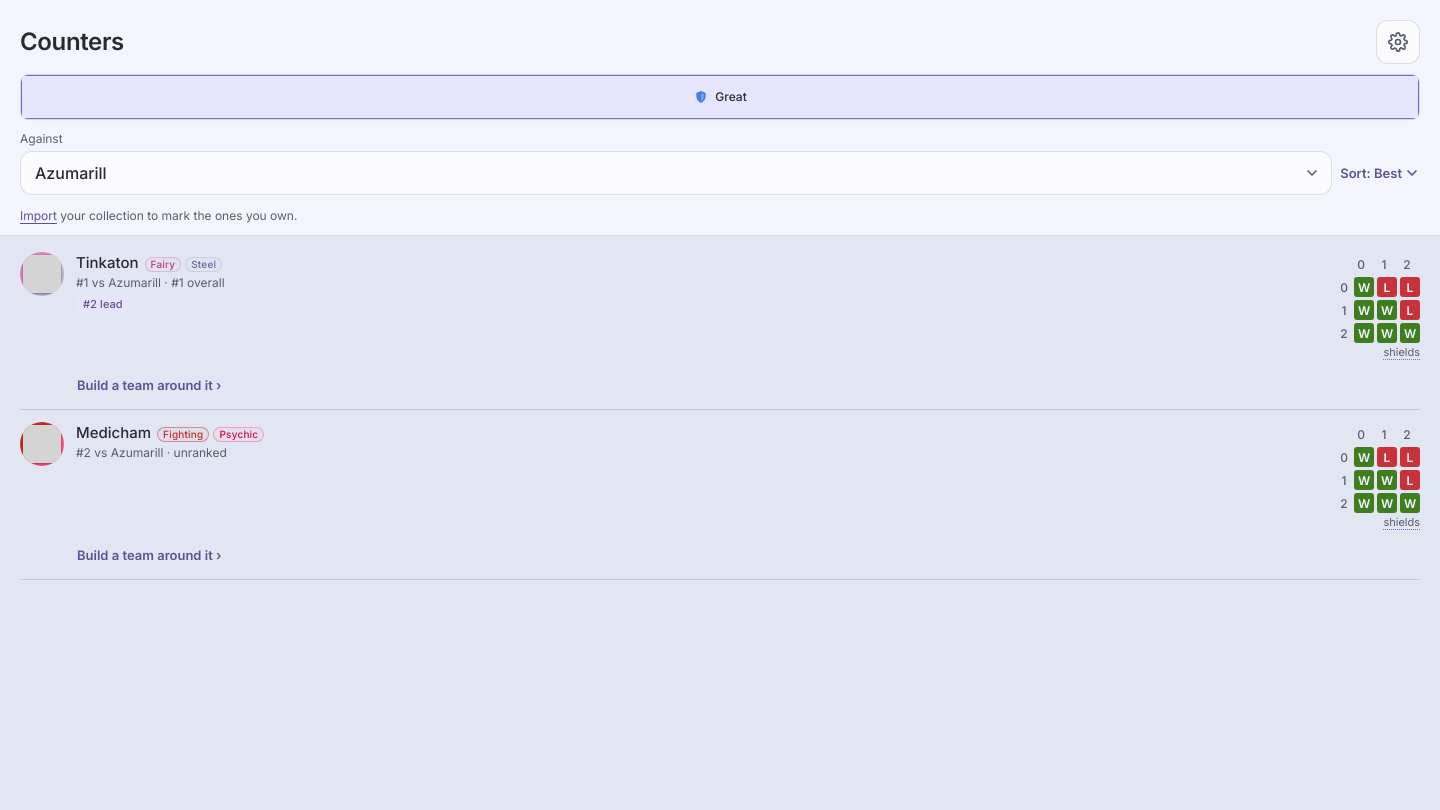
Test case: Counters page › the Against sheet searches species; The whole meta shows only with an empty search
The width and height of the screenshot is (1440, 810).
Click the button named "Against": (71, 173) [20,151,1332,195]
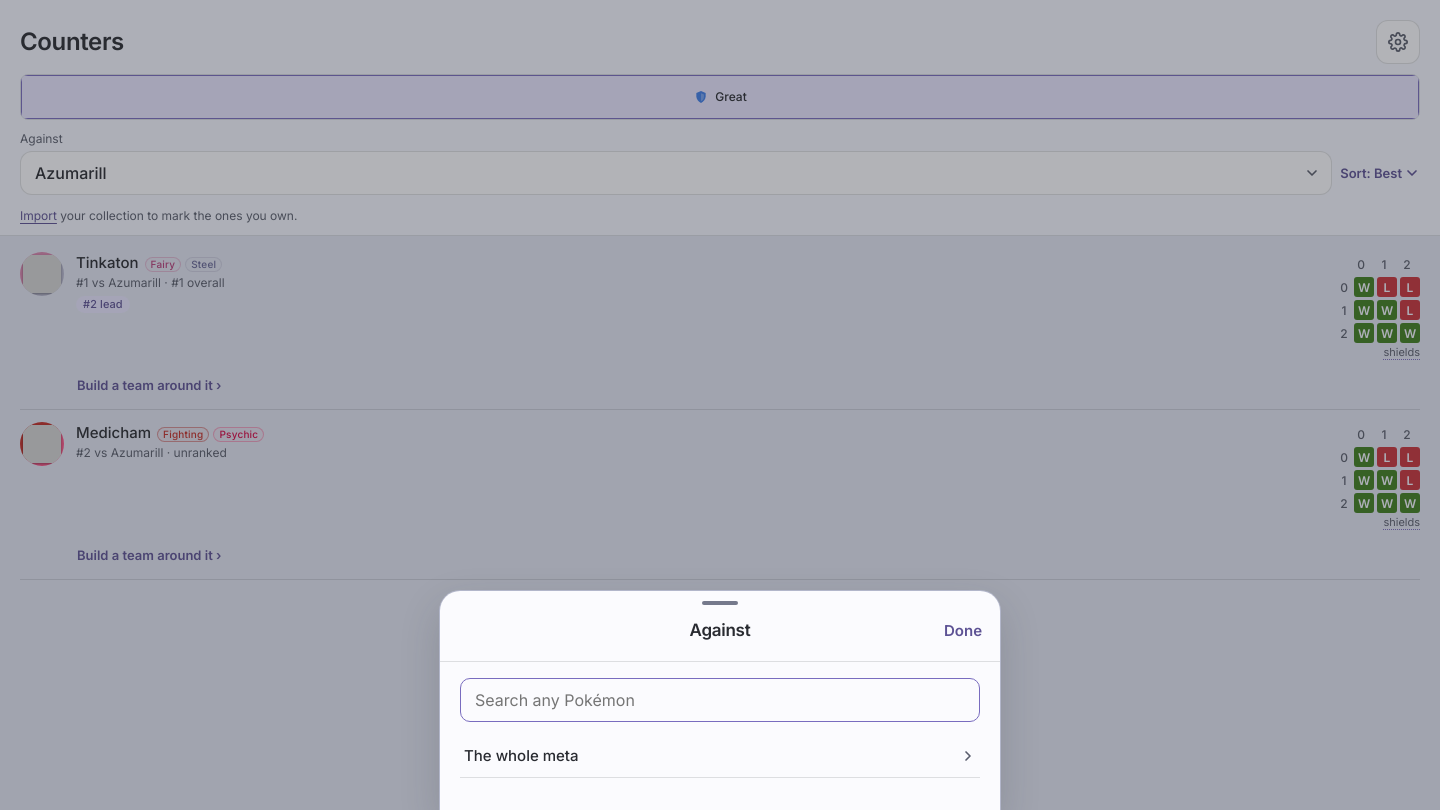
Check: the button "The whole meta" is shown, box [460,734,980,778]
In the search field with placeholder "Search any Pokémon": (720, 700) [460,678,980,722], type "clod"
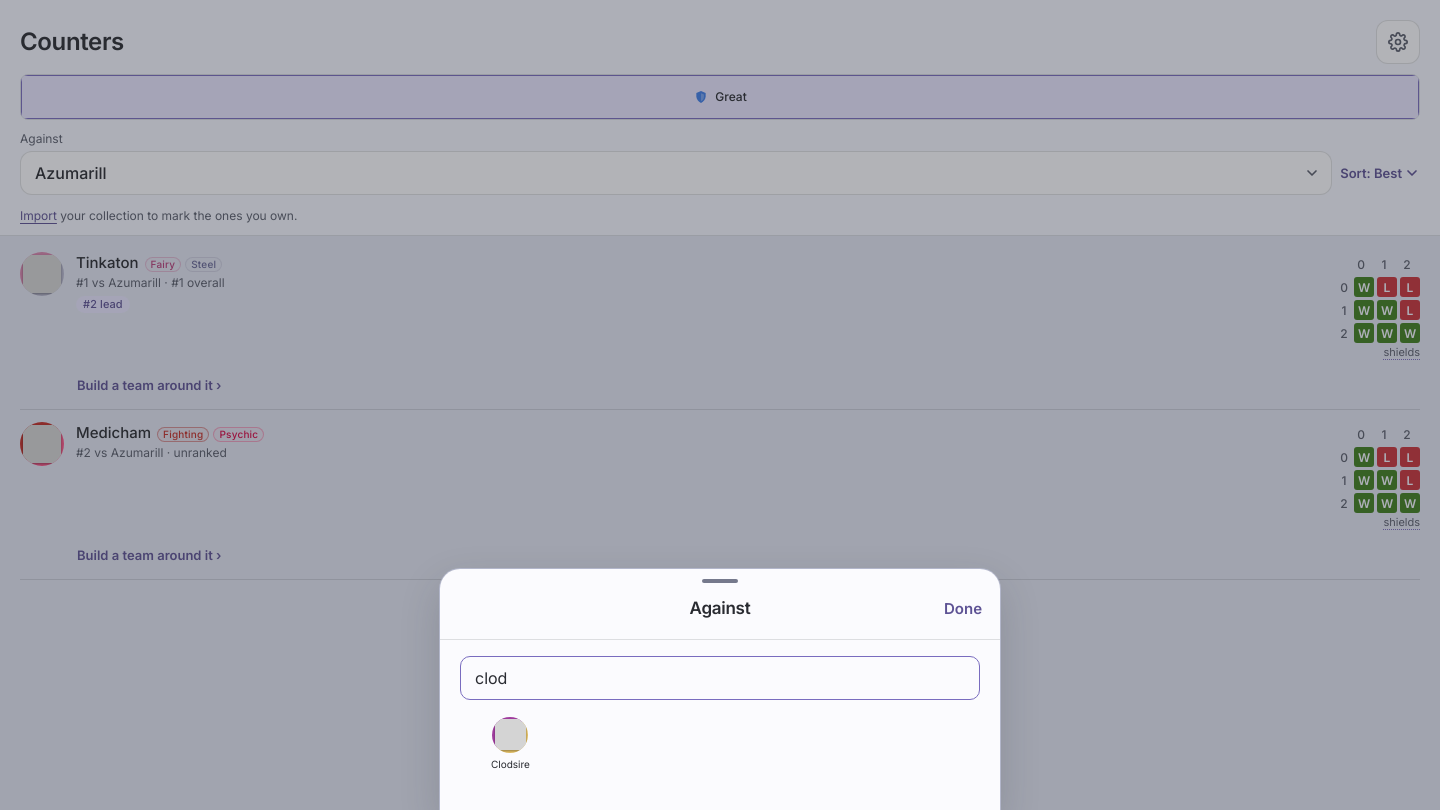
Check: the button "Clodsire" is shown, box [460,712,561,776]
Check: the button "The whole meta" is gone
Replace the text in the search field with placeholder "Search any Pokémon" with "zzzz": (720, 678) [460,656,980,700]
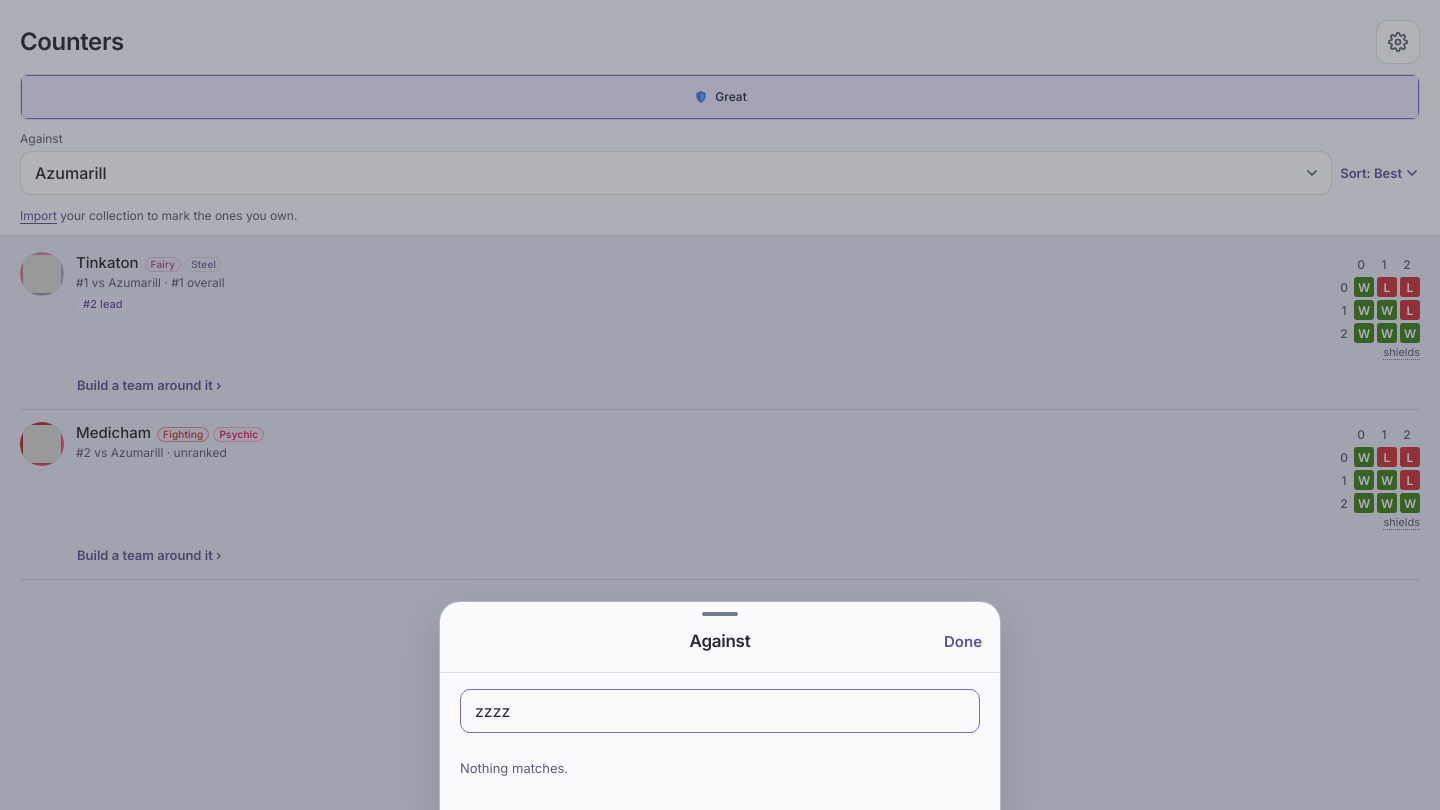
Check: the text "Nothing matches." is shown, box [460,760,568,776]
